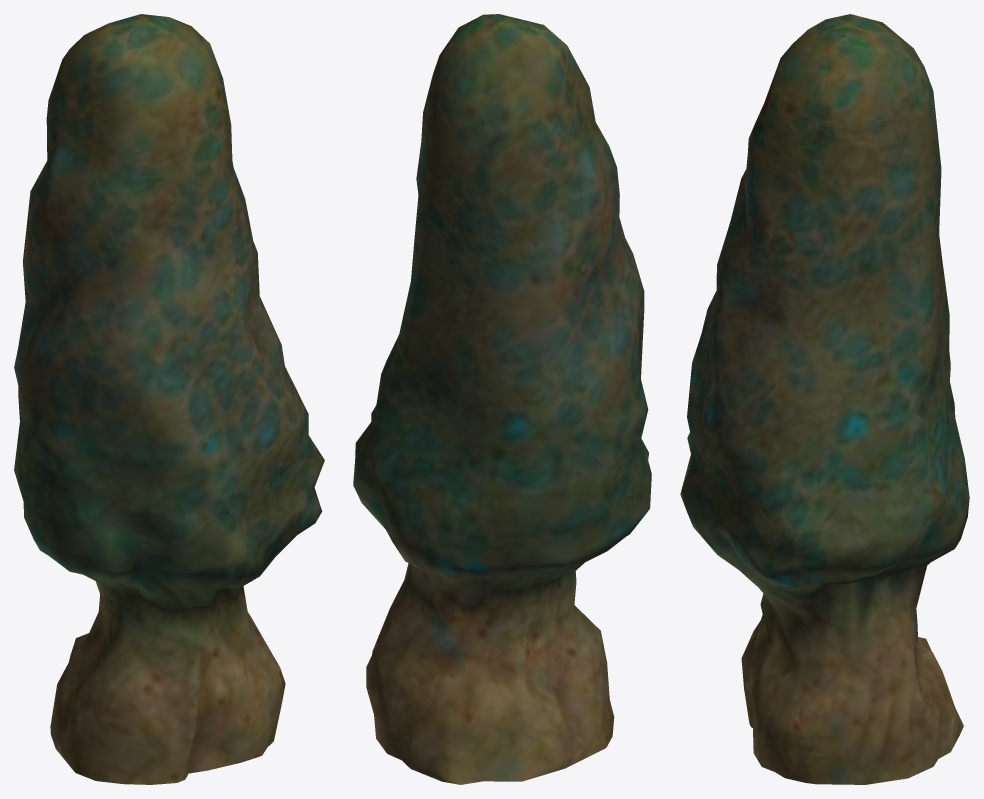
The model's file is Plant - Alien Shroom plant1 3-DDVavwVF.glb.
3 views of the same model, side by side, from view 1: azimuth 30°, elevation 25°; view 2: azimuth 150°, elevation 25°; view 3: azimuth 270°, elevation 25° (orthographic). The views are drawn at different scales.
Parts seen in each view (by area): view 1: Shroom_Plant3_L0(Clone); view 2: Shroom_Plant3_L0(Clone); view 3: Shroom_Plant3_L0(Clone).
Boxes of the visible parts, box(x1,y1,x2,y2) form: Shroom_Plant3_L0(Clone): box(14, 14, 324, 784); Shroom_Plant3_L0(Clone): box(353, 14, 651, 784); Shroom_Plant3_L0(Clone): box(680, 14, 969, 784).
Size of the model in its own units: 0.8771 by 2.25 by 0.8361.
1 material, 1 textured.
